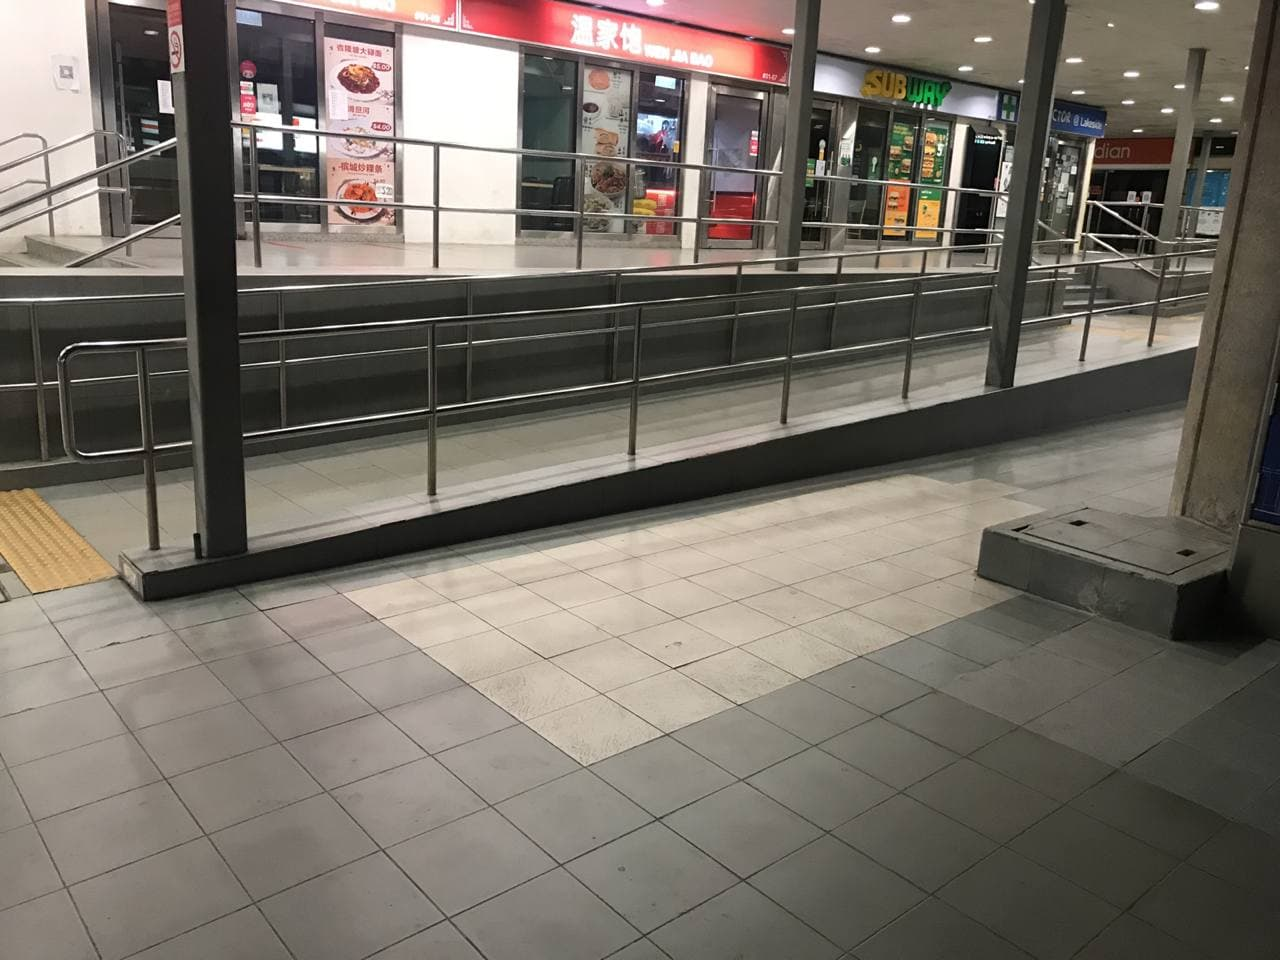slopes: (15, 208, 1267, 621)
